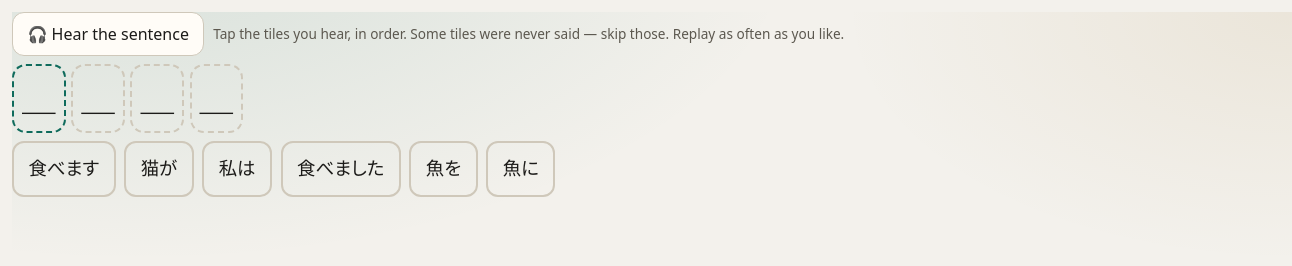
Test: EarTilesCheck › strikes out a tapped fake, logs it as a miss, and still lets the learner finish
The width and height of the screenshot is (1292, 266).
Click the 7th button at (521, 169), box [486,141,555,197]
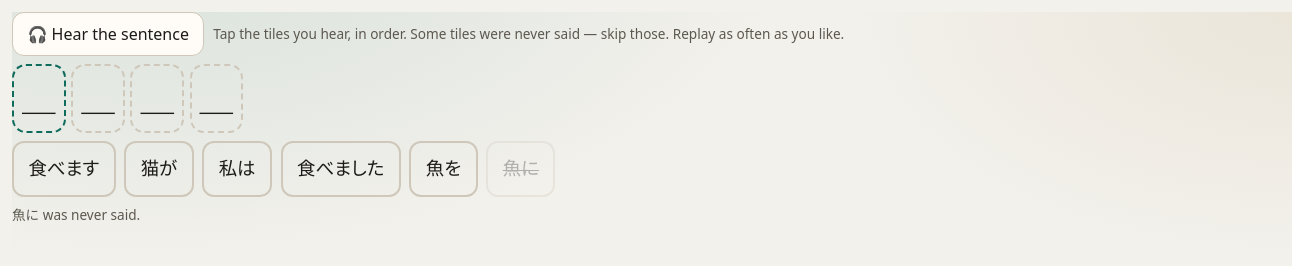
Click the button "私は" at (237, 169), box [202,141,272,197]
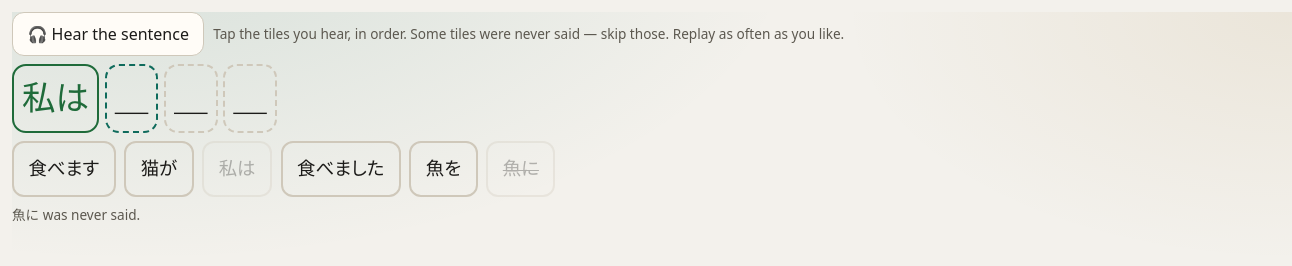
Click the 3rd button at (159, 169), box [124,141,194,197]
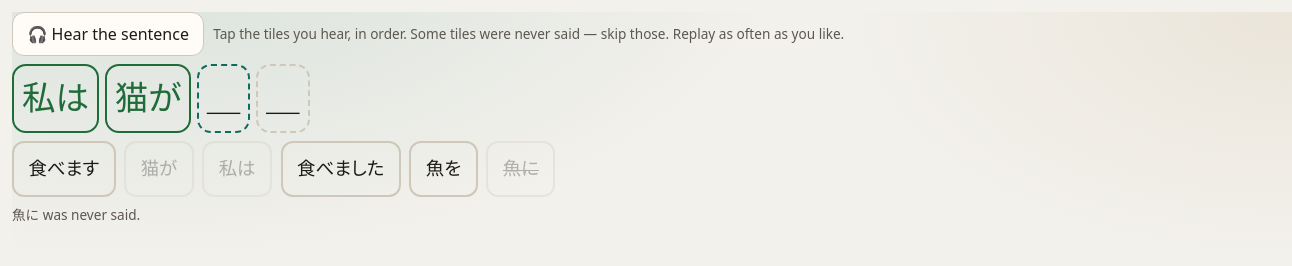
Click the button "魚を" at (444, 169), box [410,141,478,197]
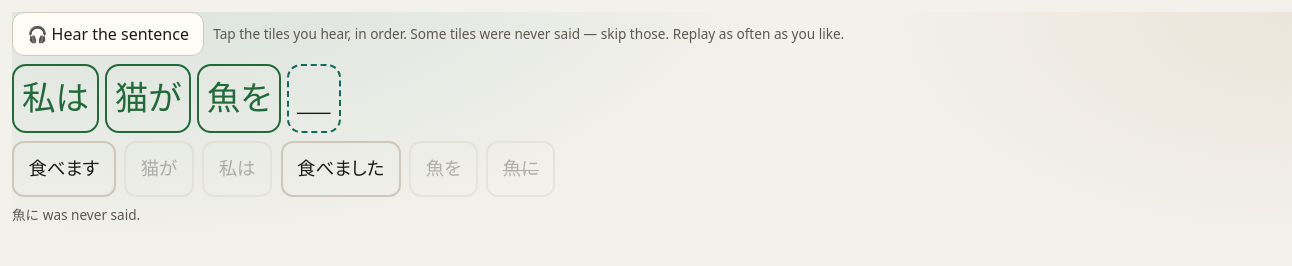
Click the button "食べました" at (341, 169), box [281,141,401,197]
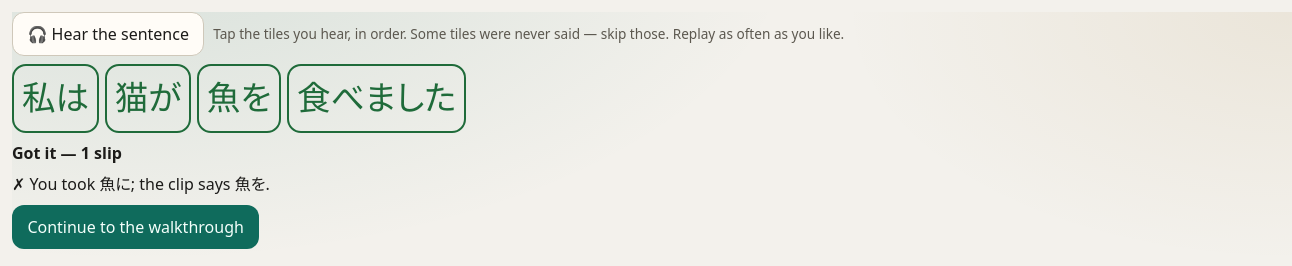
Now the text "Got it — 1 slip" is shown, box [12,142,122,164]
